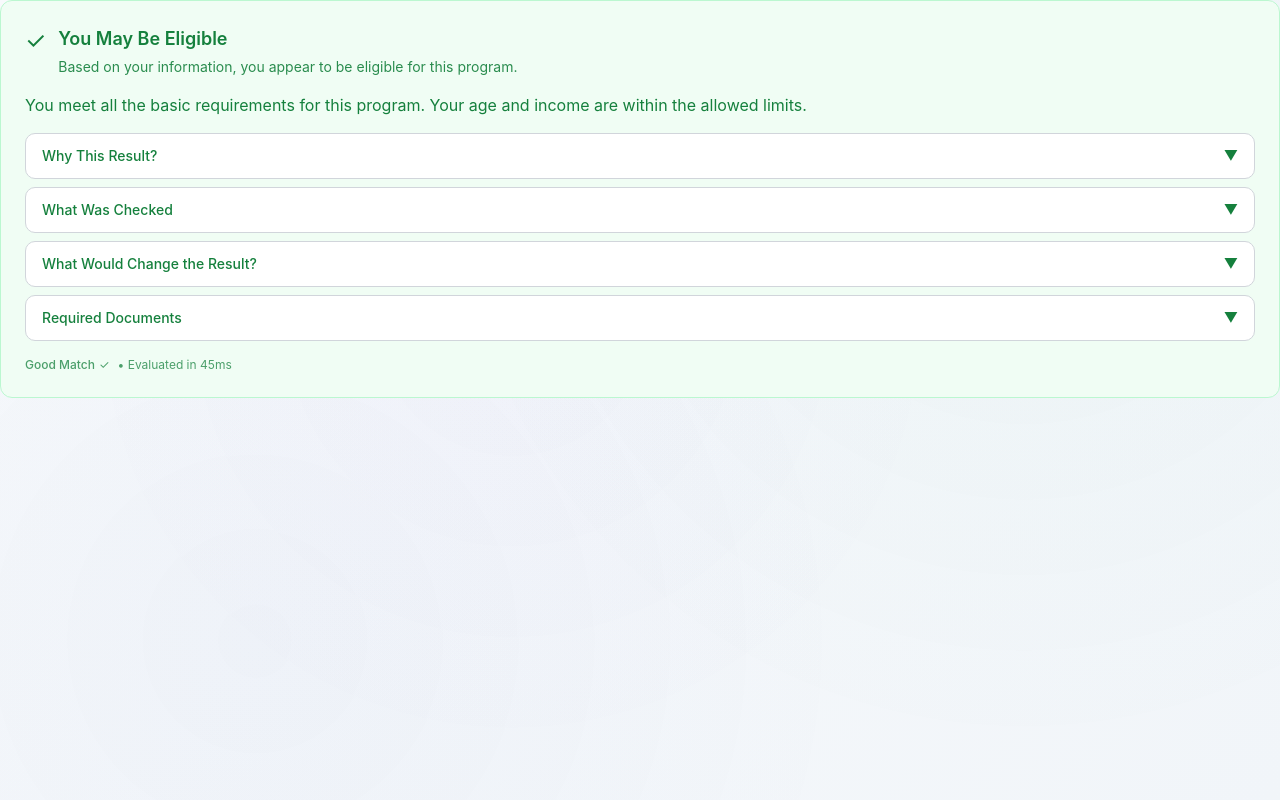
Test: EligibilityResultExplanation › Accordion Functionality › expands and collapses accordion items
Click the text "Why This Result?" at (100, 156), box x1=42 y1=146 x2=157 y2=166
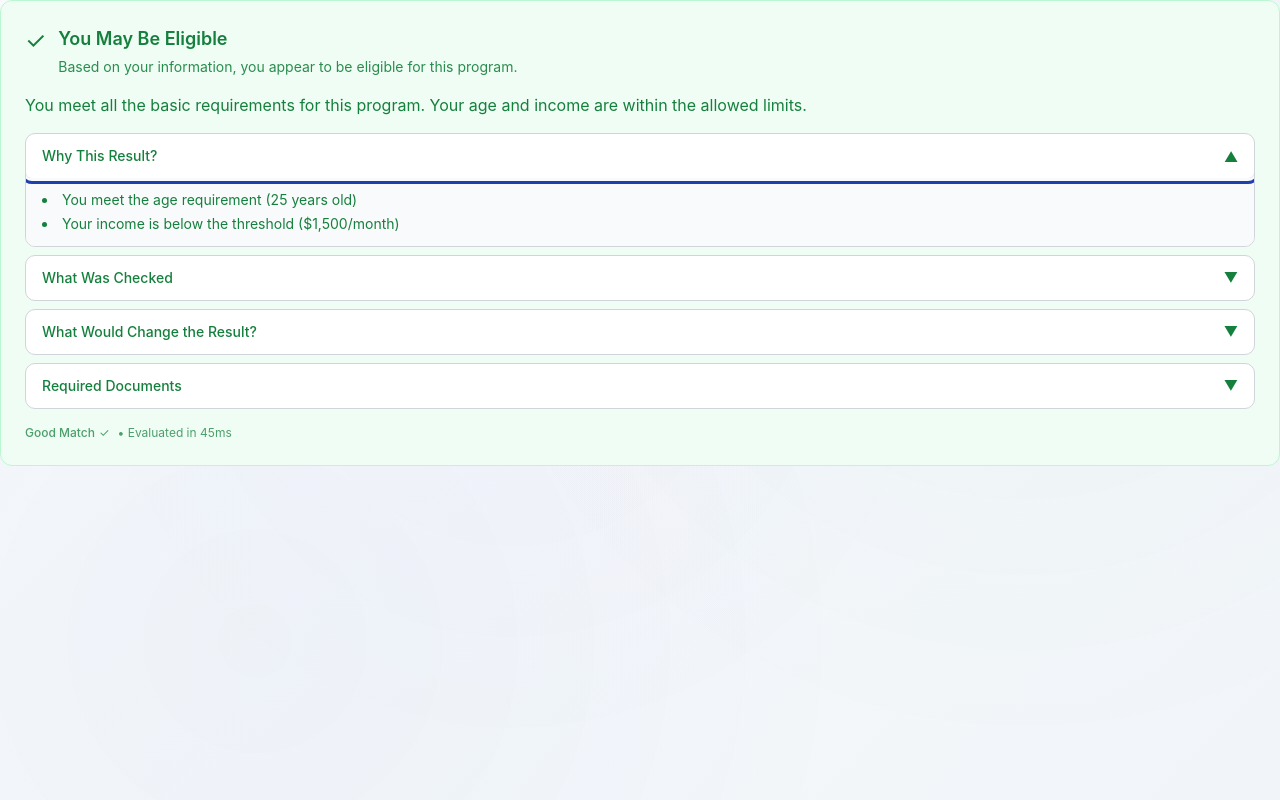
Check: the list item "You meet the age requirement (25 years old)" is shown, box x1=62 y1=191 x2=357 y2=208
